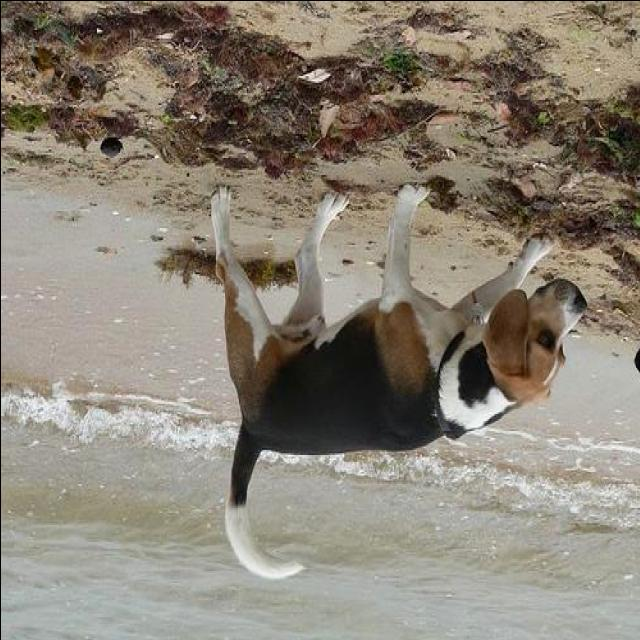beagle: (207, 180, 589, 580)
